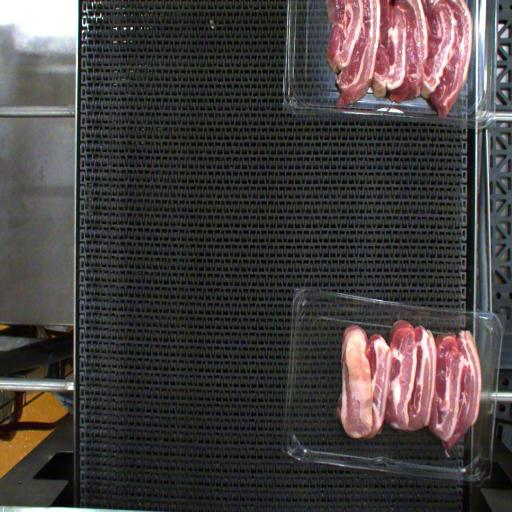twisted-meat: (333, 313, 372, 428)
